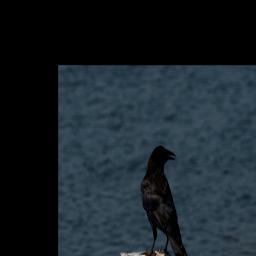Crow: (141, 145, 189, 256)
